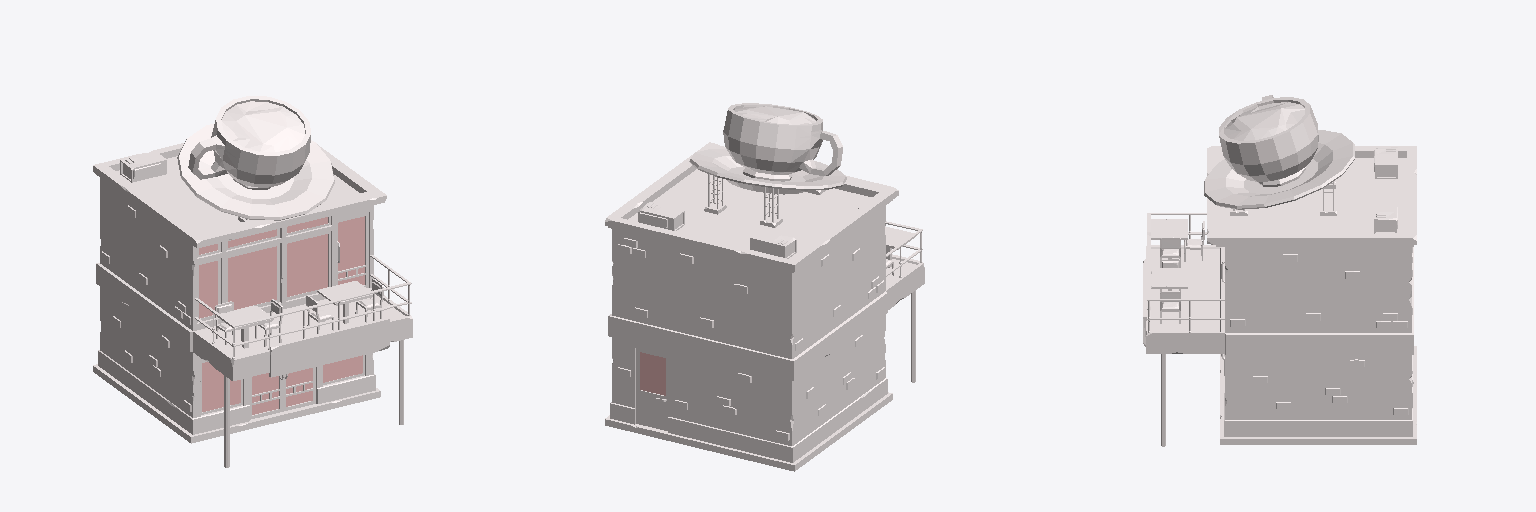
Rendered from CoffeeRestaurant.obj.
3 renders of one model, left to right at view 1: azimuth 30°, elevation 25°; view 2: azimuth 150°, elevation 25°; view 3: azimuth 270°, elevation 25°, orthographic.
Parts seen in each view (by area): view 1: SM_Bld_Cafe_01_Mesh.001, SM_Bld_Cafe_Cup_Sign_01_Mesh.001, SM_Bld_Cafe_Sign_01_Mesh.001, SM_Bld_Cafe_Tables_01_Mesh.001, SM_Bld_Cafe_Door_03_Mesh.001, SM_Bld_Cafe_Door_01_Mesh.002, SM_Bld_Cafe_Door_02_Mesh.001; view 2: SM_Bld_Cafe_01_Mesh.001, SM_Bld_Cafe_Cup_Sign_01_Mesh.001, SM_Bld_Cafe_Door_04_Mesh.001; view 3: SM_Bld_Cafe_01_Mesh.001, SM_Bld_Cafe_Cup_Sign_01_Mesh.001, SM_Bld_Cafe_Tables_01_Mesh.001.
Boxes of the visible parts, x1=… form: SM_Bld_Cafe_01_Mesh.001: x1=93, y1=143, x2=412, y2=467; SM_Bld_Cafe_Cup_Sign_01_Mesh.001: x1=177, y1=96, x2=334, y2=221; SM_Bld_Cafe_Sign_01_Mesh.001: x1=269, y1=318, x2=389, y2=377; SM_Bld_Cafe_Tables_01_Mesh.001: x1=215, y1=279, x2=383, y2=348; SM_Bld_Cafe_Door_03_Mesh.001: x1=336, y1=212, x2=368, y2=287; SM_Bld_Cafe_Door_01_Mesh.002: x1=250, y1=373, x2=283, y2=419; SM_Bld_Cafe_Door_02_Mesh.001: x1=283, y1=367, x2=315, y2=411; SM_Bld_Cafe_01_Mesh.001: x1=605, y1=142, x2=924, y2=471; SM_Bld_Cafe_Cup_Sign_01_Mesh.001: x1=689, y1=103, x2=846, y2=227; SM_Bld_Cafe_Door_04_Mesh.001: x1=636, y1=348, x2=668, y2=430; SM_Bld_Cafe_01_Mesh.001: x1=1146, y1=146, x2=1416, y2=446; SM_Bld_Cafe_Cup_Sign_01_Mesh.001: x1=1204, y1=95, x2=1354, y2=215; SM_Bld_Cafe_Tables_01_Mesh.001: x1=1151, y1=219, x2=1204, y2=323.
Size of the model in its own units: 5.8 by 8.58 by 7.23.